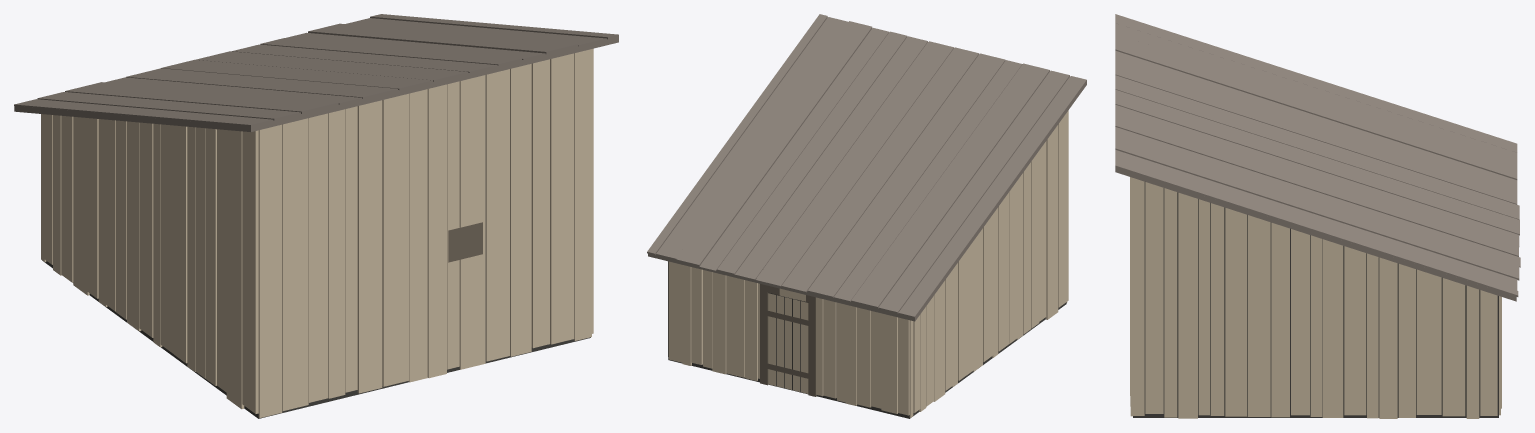
Rendered from recon_1835_blk_randolph_franklin_d2_05__inferred_1835.glb.
3 views of the same model, side by side, from view 1: azimuth 30°, elevation 25°; view 2: azimuth 150°, elevation 25°; view 3: azimuth 270°, elevation 25° (orthographic). The views are drawn at different scales.
Visible parts, largest first — view 1: recon_1835_blk_randolph_franklin_d2_05__inferred_1835; view 2: recon_1835_blk_randolph_franklin_d2_05__inferred_1835; view 3: recon_1835_blk_randolph_franklin_d2_05__inferred_1835.
Boxes of the visible parts, left/top/right/bottom form: recon_1835_blk_randolph_franklin_d2_05__inferred_1835: left=14, top=14, right=618, bottom=418; recon_1835_blk_randolph_franklin_d2_05__inferred_1835: left=647, top=14, right=1086, bottom=418; recon_1835_blk_randolph_franklin_d2_05__inferred_1835: left=1115, top=14, right=1520, bottom=418.
Bounding box in the file's own units: 5.66 × 4.51 × 6.37.
